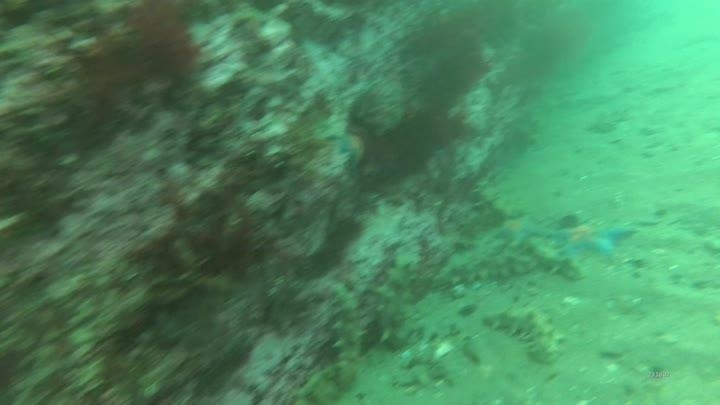holothurian: (372, 237, 424, 349), (480, 301, 566, 367), (325, 278, 371, 394), (435, 245, 540, 289), (525, 234, 587, 284), (468, 176, 523, 223)
starfish: (547, 217, 639, 263), (491, 212, 547, 250), (330, 128, 368, 172)
